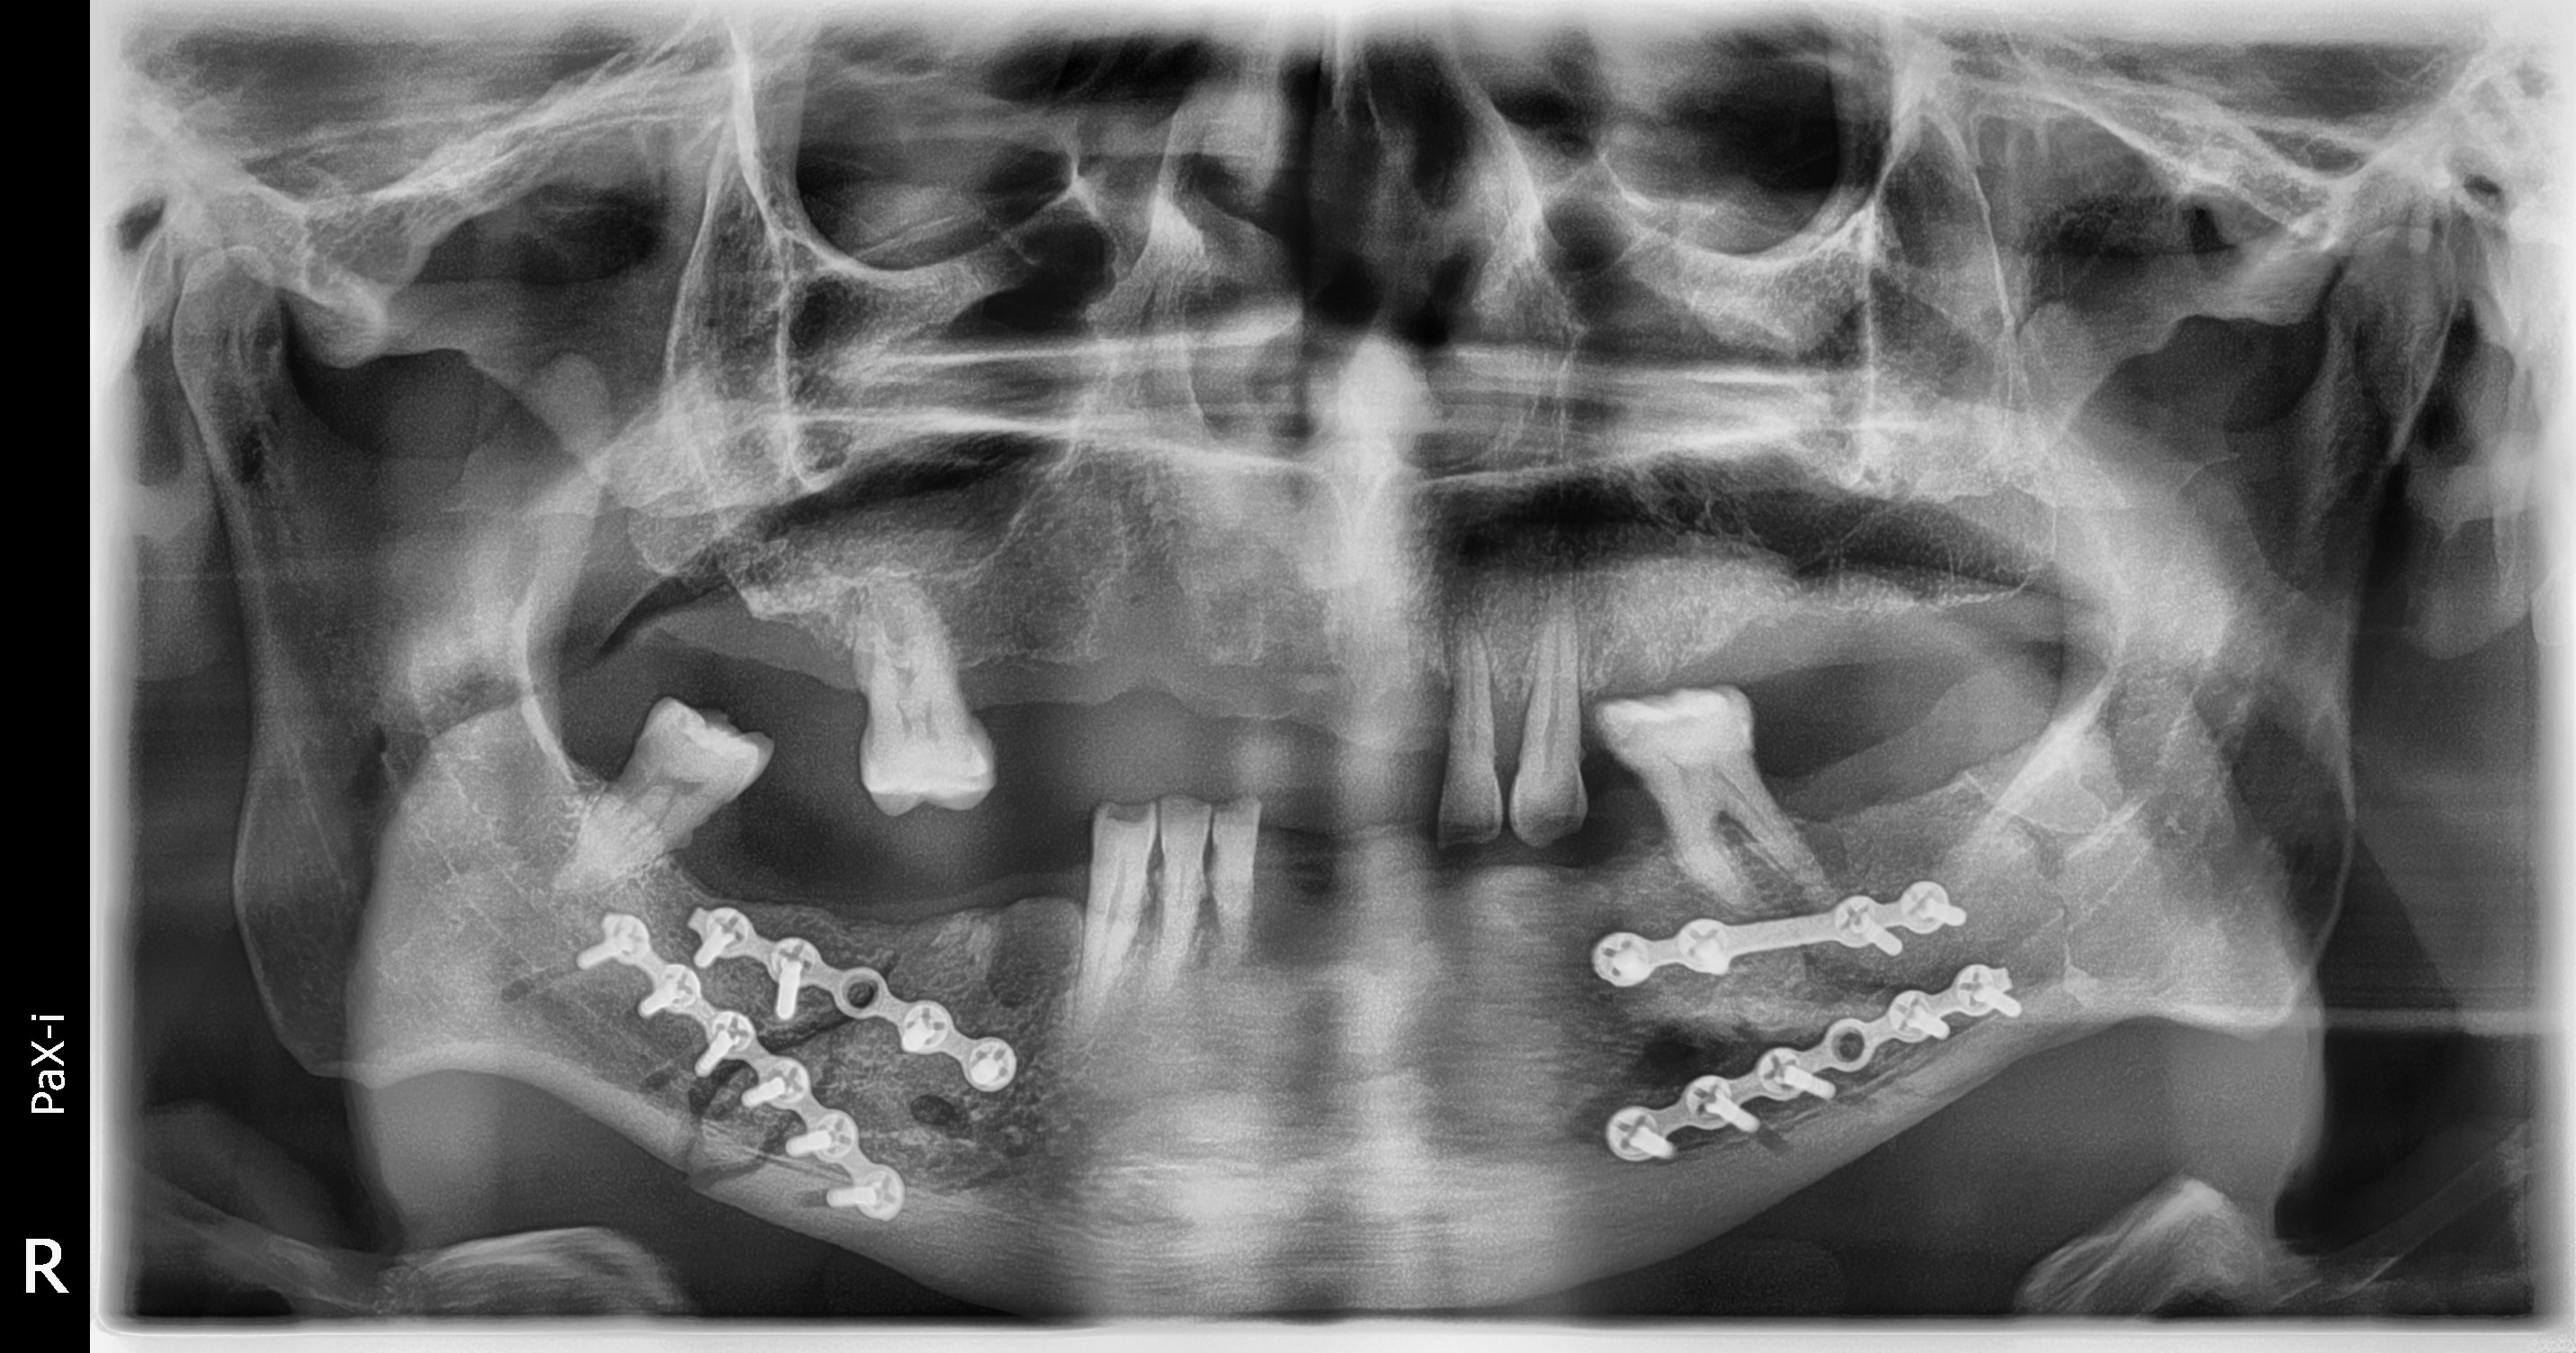BON: (1487, 653, 1545, 780), (1402, 646, 1462, 769), (1186, 867, 1232, 971), (1567, 658, 1608, 772), (1114, 878, 1165, 968), (1056, 852, 1107, 942)
FUR: (1683, 796, 1767, 861)
SRD: (1584, 936, 2065, 1220), (571, 879, 923, 1241), (1542, 832, 1988, 1039), (649, 878, 1036, 1111)
